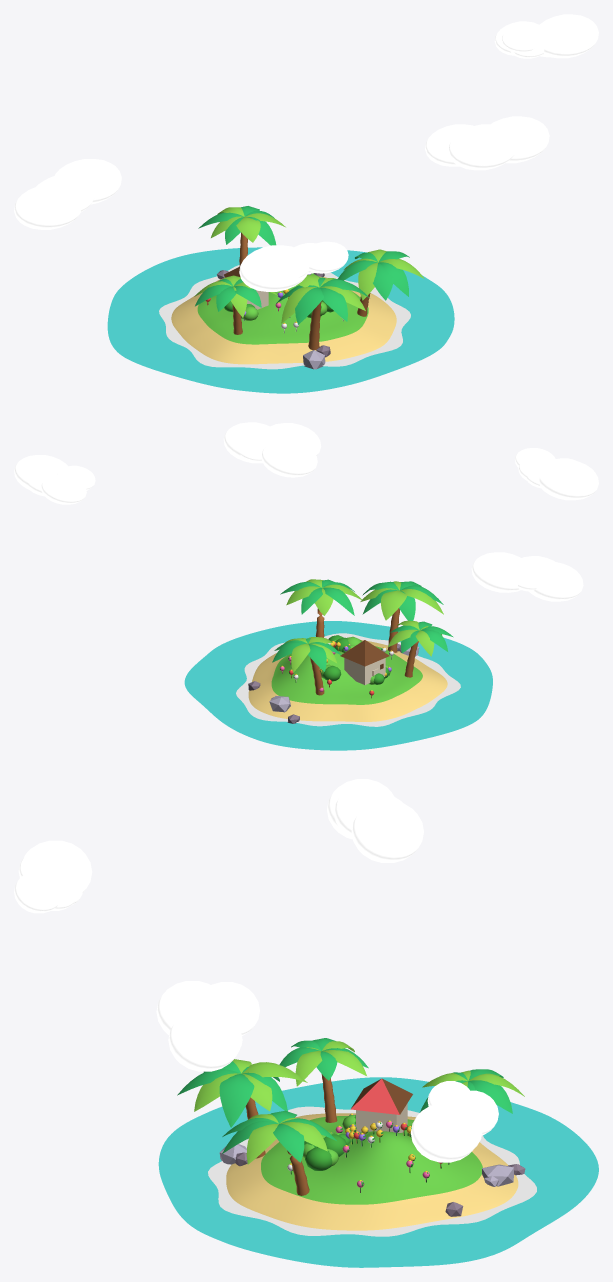
File: cartoon_island.glb
3 renders of one model, top to bottom at view 1: azimuth 30°, elevation 25°; view 2: azimuth 150°, elevation 25°; view 3: azimuth 270°, elevation 25°, orthographic. The views are drawn at different scales.
Visible parts, largest first — view 1: Clouds, Lagoon, Island, Palm_3, Foam, Palm_1, Palm_2, Palm_0, Rocks; view 2: Lagoon, Clouds, Island, Foam, Palm_3, Palm_1, Palm_2, Palm_0, Hut, Bushes, Rocks; view 3: Lagoon, Clouds, Island, Palm_3, Foam, Palm_1, Palm_0, Hut, Palm_2, Rocks, Bushes, Flowers.
Part boxes in pixels (x1=…): Clouds: x1=14, y1=14, x2=598, y2=291; Lagoon: x1=107, y1=247, x2=454, y2=393; Island: x1=171, y1=273, x2=396, y2=364; Palm_3: x1=276, y1=274, x2=369, y2=350; Foam: x1=159, y1=265, x2=410, y2=369; Palm_1: x1=338, y1=249, x2=424, y2=316; Palm_2: x1=198, y1=206, x2=285, y2=266; Palm_0: x1=194, y1=275, x2=277, y2=334; Rocks: x1=217, y1=270, x2=330, y2=369; Lagoon: x1=184, y1=621, x2=492, y2=750; Clouds: x1=14, y1=422, x2=598, y2=601; Island: x1=248, y1=640, x2=447, y2=721; Foam: x1=236, y1=633, x2=460, y2=726; Palm_3: x1=360, y1=581, x2=443, y2=652; Palm_1: x1=280, y1=579, x2=361, y2=637; Palm_2: x1=272, y1=637, x2=341, y2=695; Palm_0: x1=387, y1=620, x2=453, y2=677; Hut: x1=340, y1=640, x2=389, y2=684; Bushes: x1=320, y1=635, x2=390, y2=684; Rocks: x1=248, y1=643, x2=419, y2=723; Lagoon: x1=158, y1=1077, x2=598, y2=1267; Clouds: x1=14, y1=779, x2=498, y2=1162; Island: x1=226, y1=1113, x2=518, y2=1230; Palm_3: x1=177, y1=1059, x2=307, y2=1158; Foam: x1=208, y1=1106, x2=536, y2=1236; Palm_1: x1=222, y1=1110, x2=336, y2=1195; Palm_0: x1=279, y1=1038, x2=368, y2=1122; Hut: x1=350, y1=1078, x2=412, y2=1132; Palm_2: x1=420, y1=1069, x2=524, y2=1113; Rocks: x1=219, y1=1144, x2=525, y2=1216; Bushes: x1=302, y1=1115, x2=411, y2=1170; Flowers: x1=287, y1=1113, x2=449, y2=1192.
Size of the model in its own units: 38.19 by 14.41 by 25.
